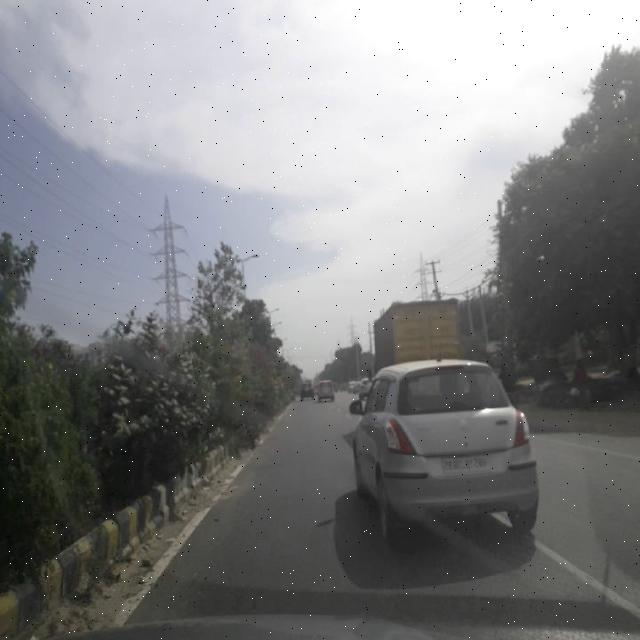D20: (180, 447, 350, 605)
